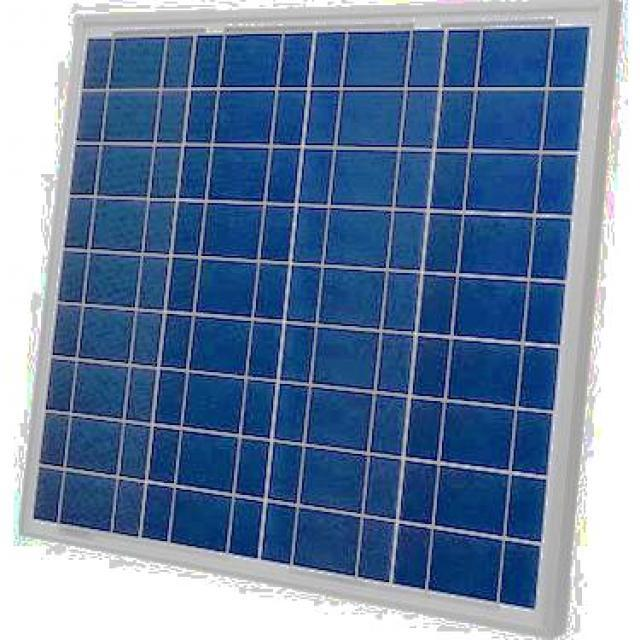no faulty: (27, 28, 599, 622)
